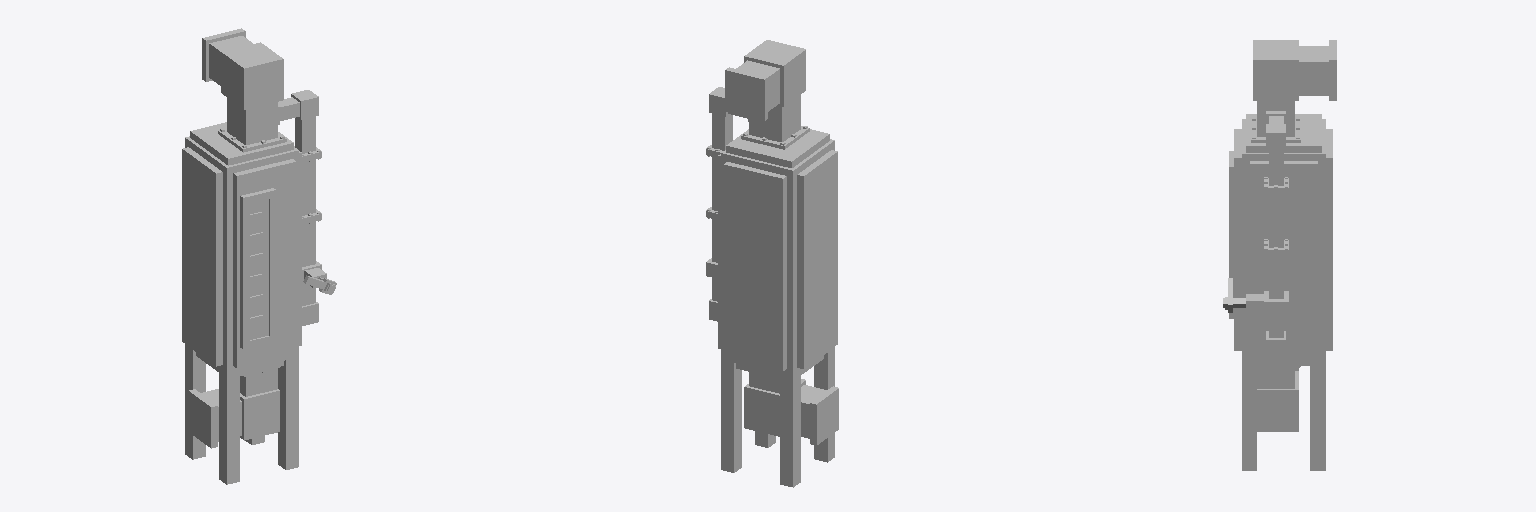
The model's file is fluidtank_small.obj.
3 renders of one model, left to right at view 1: azimuth 30°, elevation 25°; view 2: azimuth 150°, elevation 25°; view 3: azimuth 270°, elevation 25°, orthographic.
Parts seen in each view (by area): view 1: PlateWest, PlateSouth, Body, PipeInputTopConduit2, Leg1, PipeSide, GaugeBack, Leg2, PipeInputTopConduit1, PipeOutputNotch, BodyTop, PipeOutputPipe (+8 smaller); view 2: PlateNorth, PlateWest, Body, Leg4, Leg3, PipeInputTopConduit2, PipeInputTopConduit4, BodyTop, PipeOutputNotch, PipeInputTopConduit1, PipeSide, PipeOutputPipe (+5 smaller); view 3: PlateEast, Body, PipeInputTopConduit2, PipeSide, PipeOutputNotch, Leg3, PlateSouth, Leg2, PlateNorth, PipeInputTopConduit3, BodyTop, PipeSideCube4 (+3 smaller).
Boxes of the visible parts, <box> form: PlateWest: <box>182,147,222,366</box>; PlateSouth: <box>233,159,295,368</box>; Body: <box>185,136,298,374</box>; PipeInputTopConduit2: <box>221,42,283,109</box>; Leg1: <box>219,369,239,484</box>; PipeSide: <box>295,116,315,305</box>; GaugeBack: <box>250,199,268,339</box>; Leg2: <box>278,357,298,469</box>; PipeInputTopConduit1: <box>227,98,277,144</box>; PipeOutputNotch: <box>240,389,279,440</box>; BodyTop: <box>190,122,293,165</box>; PipeOutputPipe: <box>188,389,217,448</box>; PlateNorth: <box>724,162,786,371</box>; PlateWest: <box>797,150,837,368</box>; Body: <box>721,139,834,376</box>; Leg4: <box>780,372,800,487</box>; Leg3: <box>721,360,741,472</box>; PipeInputTopConduit2: <box>744,40,805,106</box>; PipeInputTopConduit4: <box>725,67,767,120</box>; BodyTop: <box>726,129,829,167</box>; PipeOutputNotch: <box>744,379,805,436</box>; PipeInputTopConduit1: <box>749,95,800,141</box>; PipeSide: <box>712,114,732,301</box>; PipeOutputPipe: <box>810,386,838,445</box>; PlateEast: <box>1250,161,1317,356</box>; Body: <box>1242,119,1325,360</box>; PipeInputTopConduit2: <box>1253,40,1298,100</box>; PipeSide: <box>1269,151,1283,337</box>; PipeOutputNotch: <box>1257,371,1298,431</box>; Leg3: <box>1310,361,1325,470</box>; PlateSouth: <box>1234,129,1241,350</box>; Leg2: <box>1242,361,1256,470</box>; PlateNorth: <box>1326,129,1332,350</box>; PipeInputTopConduit3: <box>1299,46,1328,95</box>; BodyTop: <box>1246,114,1321,152</box>; PipeSideCube4: <box>1266,111,1285,357</box>.
Bounding box in the file's own units: 1.1 × 3.69 × 0.9375.